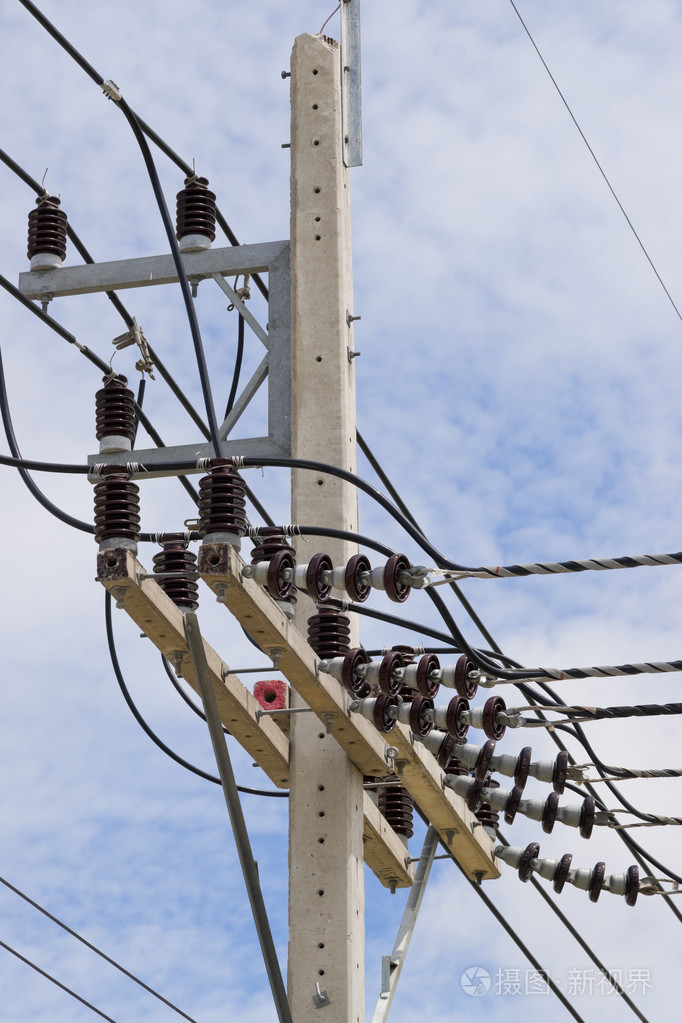insulator: (505, 841, 643, 904), (459, 778, 594, 842), (428, 734, 574, 792), (264, 549, 409, 605), (334, 650, 479, 697), (368, 695, 510, 741)
